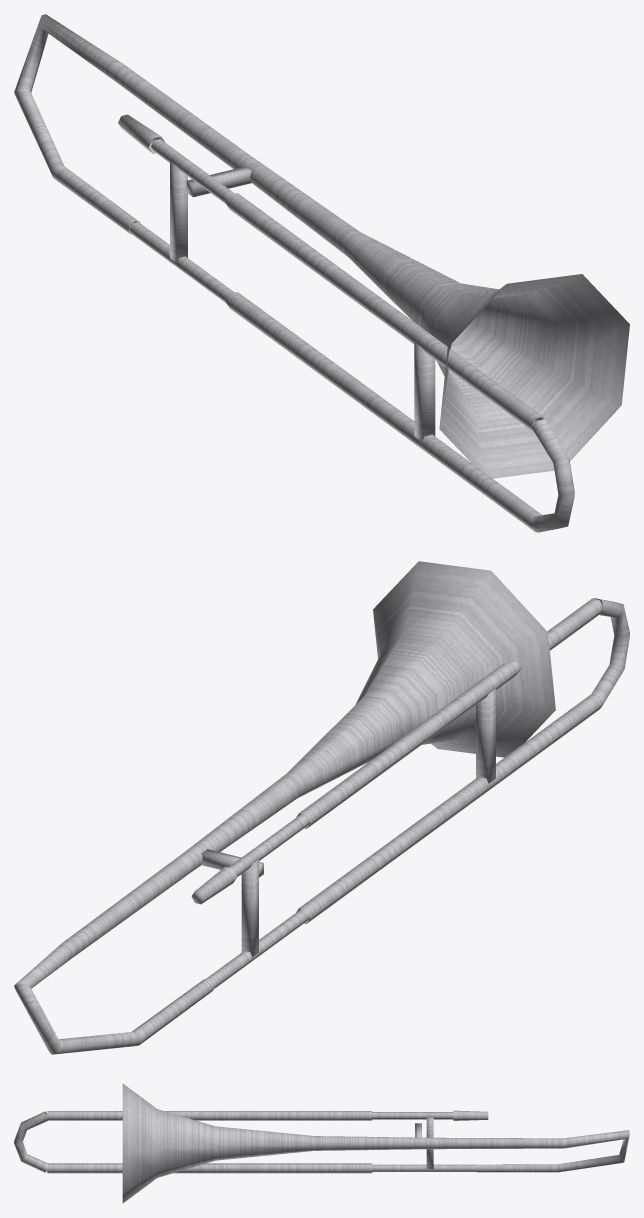
The model's file is trombone_4.glb.
The picture shows the model from 3 angles, top to bottom: view 1: azimuth 30°, elevation 25°; view 2: azimuth 150°, elevation 25°; view 3: azimuth 270°, elevation 25°; orthographic projection. The views are drawn at different scales.
Parts seen in each view (by area): view 1: trombone_4, trombone_4_slide; view 2: trombone_4, trombone_4_slide; view 3: trombone_4, trombone_4_slide.
Part boxes in pixels (x1,y1,x2,y2): trombone_4: (14, 14, 629, 478); trombone_4_slide: (226, 193, 574, 532); trombone_4: (14, 561, 555, 1054); trombone_4_slide: (296, 598, 629, 923); trombone_4: (122, 1083, 629, 1203); trombone_4_slide: (14, 1111, 372, 1173).
Size of the model in its own units: 0.2015 by 0.2015 by 1.06.
1 material, 1 textured.
